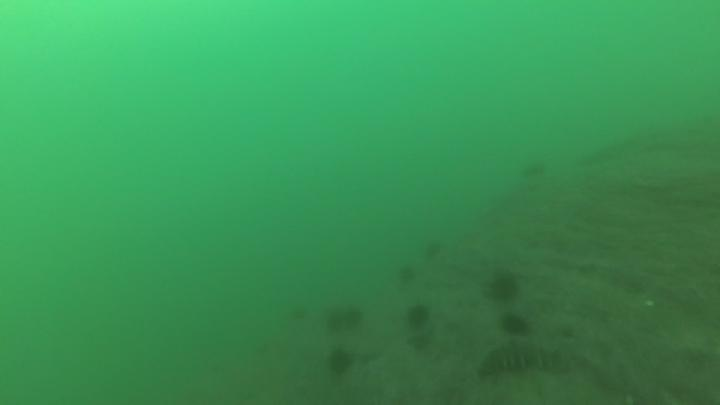echinus: (328, 306, 361, 329), (491, 281, 520, 304), (328, 348, 349, 374), (406, 305, 430, 327), (503, 317, 528, 335), (401, 265, 417, 283)
holothurian: (482, 346, 573, 379)
